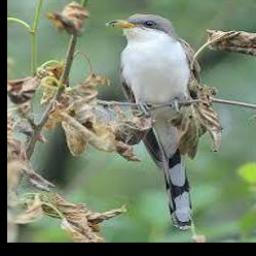Cuckoo: (105, 12, 199, 230)
